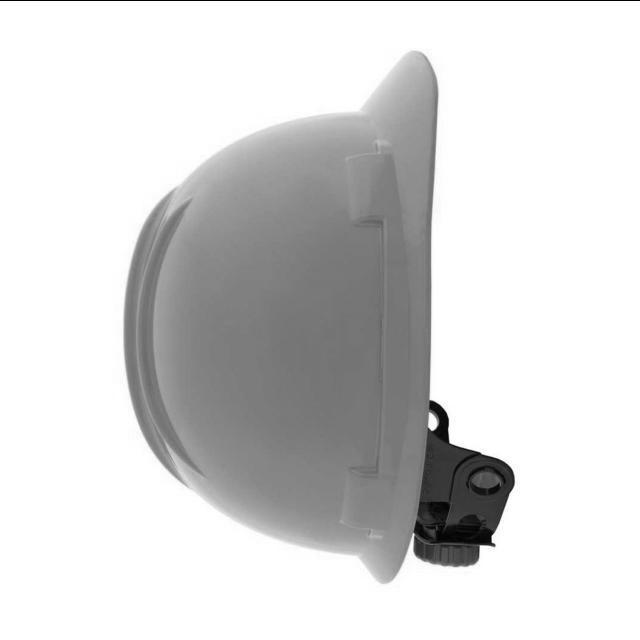safety_helmet: (124, 48, 518, 584)
